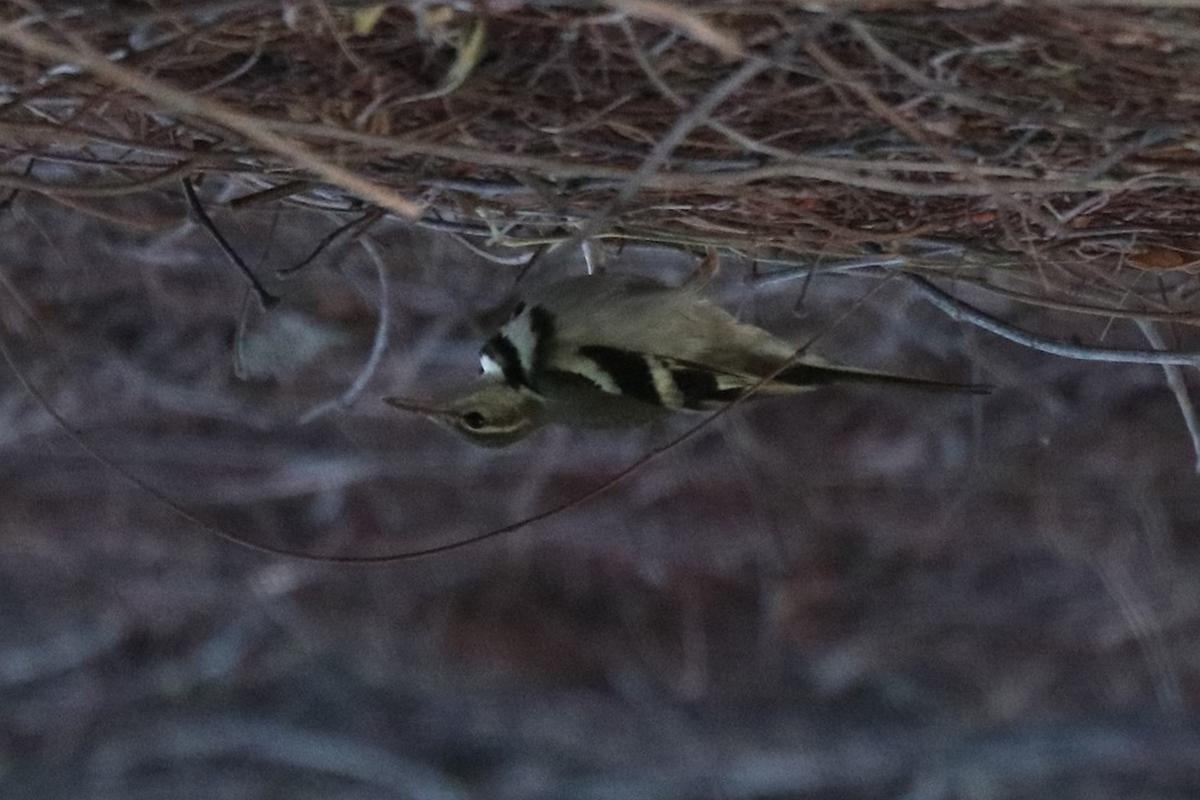wagtail: (400, 261, 878, 465)
